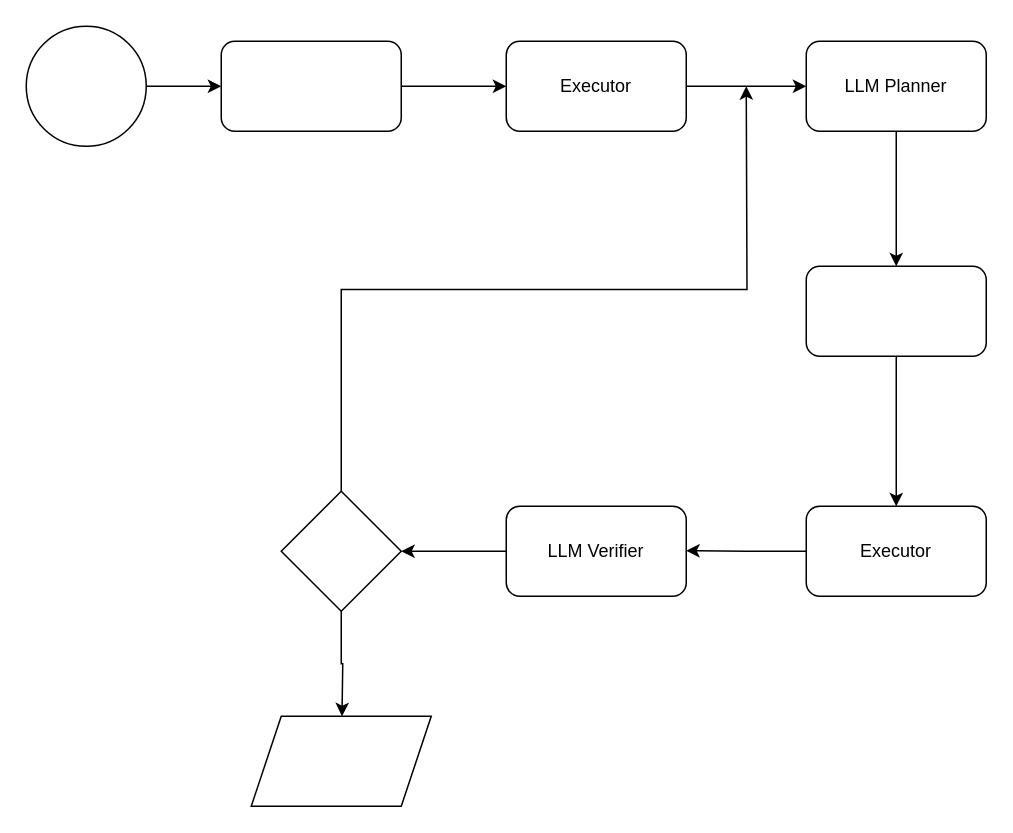
Some shapes in this 1013 by 833 pixel diagram are drawn without their labels. Each missing label, with the centre of its shape:
LLM Coder: (x=895, y=310)
LLM Explorer: (x=310, y=85)
